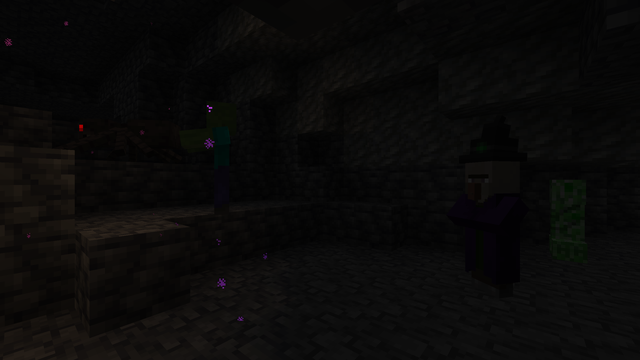araignees: (74, 104, 175, 164)
creepers: (547, 175, 589, 262)
sorcieres: (463, 154, 517, 303)
zombies: (198, 102, 244, 216)
